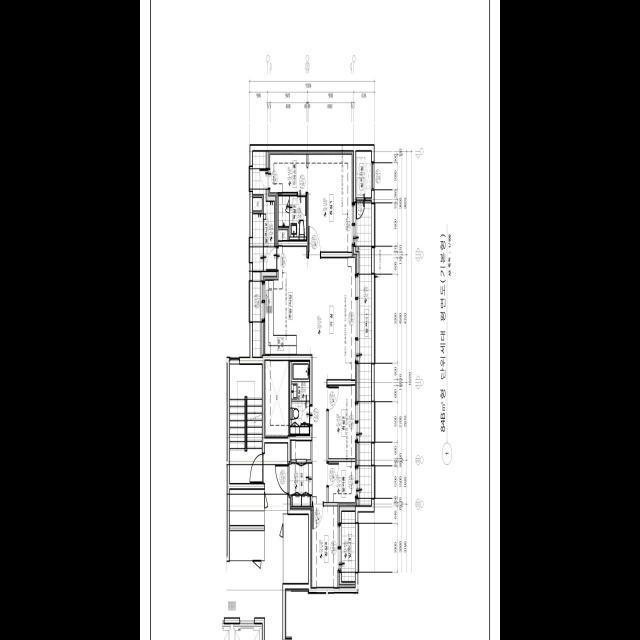background: (140, 0, 500, 640)
space_balconi: (253, 151, 276, 356), (356, 201, 371, 505), (342, 511, 355, 581)
space_bedroom: (308, 151, 353, 251), (311, 506, 339, 587), (329, 385, 356, 458)
space_dressroom: (269, 151, 307, 195)
space_elevator: (232, 624, 262, 640), (222, 624, 231, 640)
space_elevator_hall: (227, 443, 287, 640)
space_front: (289, 440, 312, 508)
space_kitchen: (263, 246, 306, 354)
space_living_room: (308, 254, 356, 502)
space_other: (265, 360, 288, 436), (283, 514, 308, 582), (230, 489, 264, 524), (329, 461, 356, 505), (230, 530, 264, 560), (253, 197, 262, 210), (278, 229, 288, 240)
space_outdoor_room: (356, 151, 371, 197)
space_staircase: (230, 364, 262, 483)
space_toilet: (290, 361, 309, 433), (278, 196, 306, 239)
